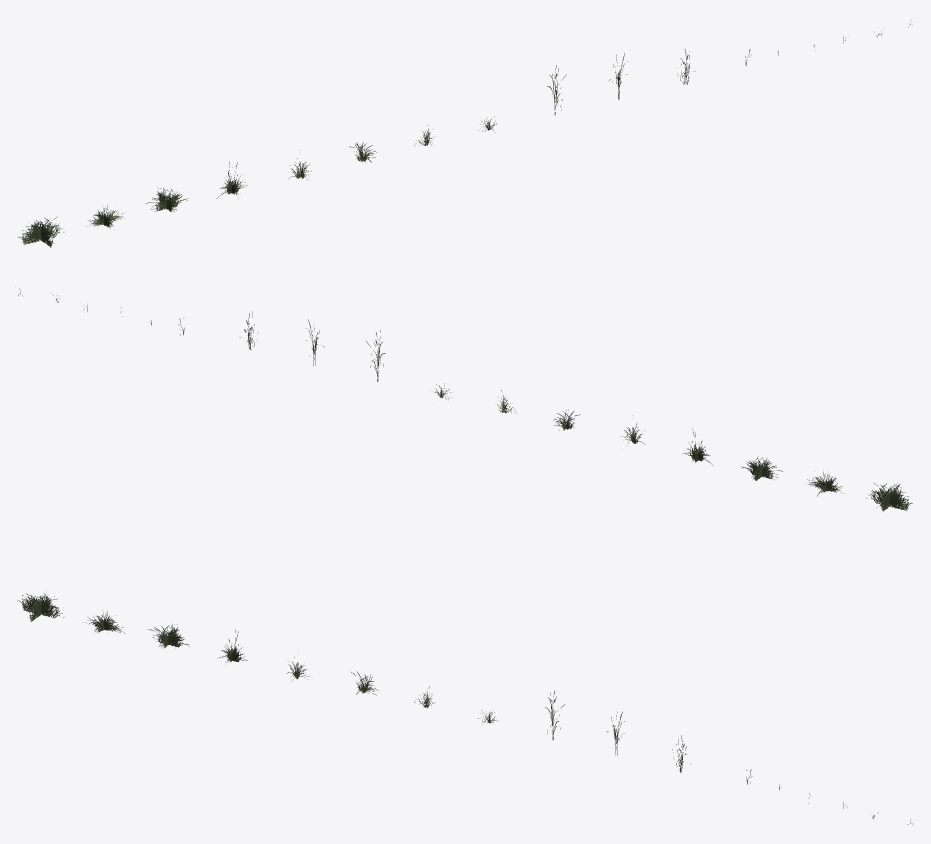
Rendered from grass_medium_01_far.glb.
The picture shows the model from 3 angles, top to bottom: view 1: azimuth 30°, elevation 25°; view 2: azimuth 150°, elevation 25°; view 3: azimuth 330°, elevation 25°; orthographic projection.
Parts seen in each view (by area): view 1: grass_medium_01_large_a_LOD0; view 2: grass_medium_01_large_a_LOD0; view 3: grass_medium_01_large_a_LOD0.
Boxes of the visible parts, bbox=[...] form: grass_medium_01_large_a_LOD0: bbox=[18, 216, 65, 247]; grass_medium_01_large_a_LOD0: bbox=[865, 483, 912, 511]; grass_medium_01_large_a_LOD0: bbox=[18, 593, 64, 621].
Size of the model in its own units: 5.62 by 0.3577 by 0.3396.
34 materials, 34 textured.
